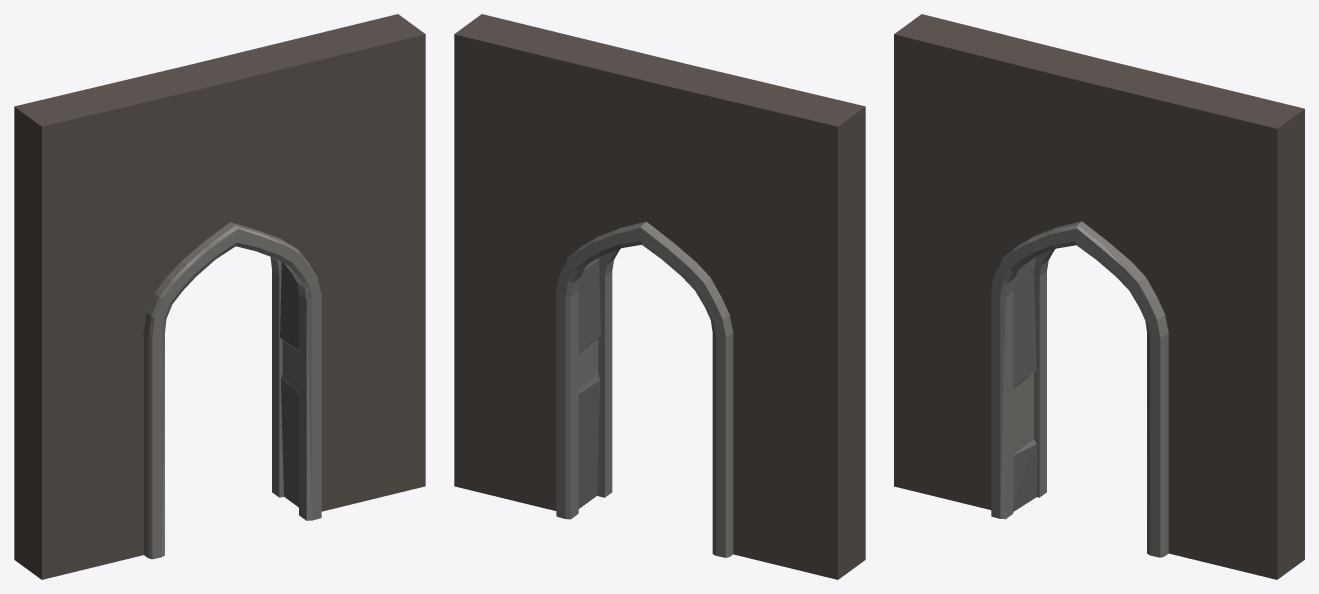
Rendered from MCastle_ArchDoors_04.FBX.
3 renders of one model, left to right at view 1: azimuth 30°, elevation 25°; view 2: azimuth 150°, elevation 25°; view 3: azimuth 330°, elevation 25°, orthographic.
Parts seen in each view (by area): view 1: MCastle_ArchDoors_04_LOD0; view 2: MCastle_ArchDoors_04_LOD0; view 3: MCastle_ArchDoors_04_LOD0.
Boxes of the visible parts, x1,y1,x2,y2 form: MCastle_ArchDoors_04_LOD0: [14, 14, 425, 579]; MCastle_ArchDoors_04_LOD0: [454, 14, 865, 579]; MCastle_ArchDoors_04_LOD0: [894, 14, 1304, 579].
Size of what is drawn, in the model's own units: 4 by 4.51 by 0.7264.
